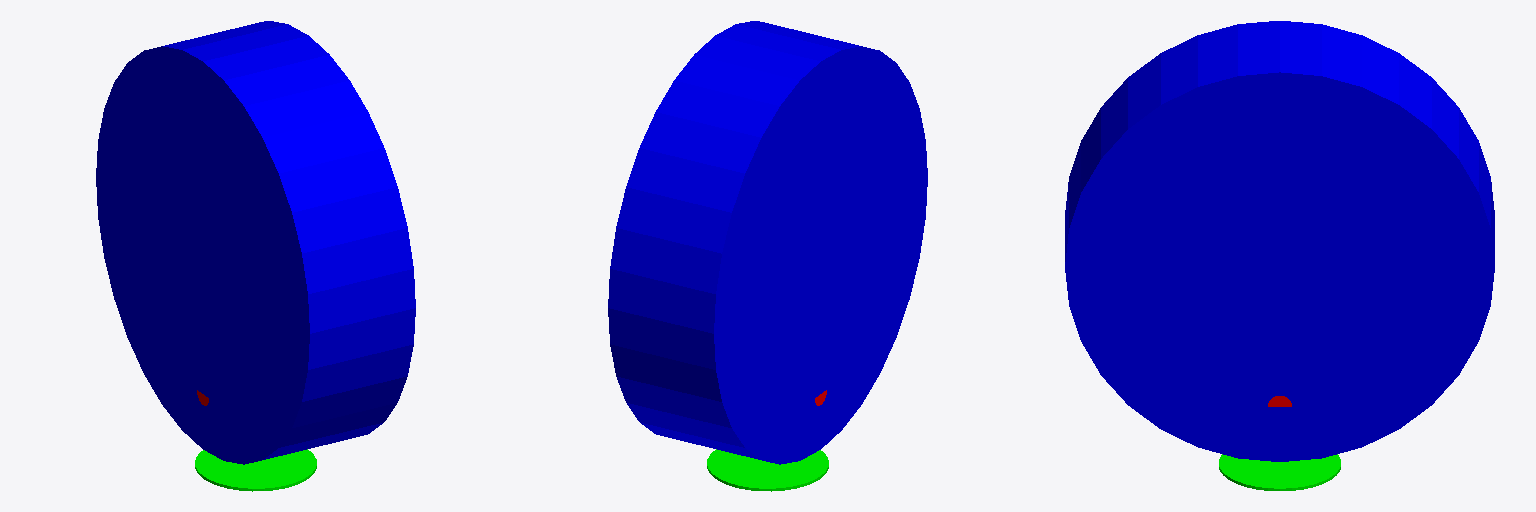
URDF robot description (pan_tilt):
<?xml version="1.0"?>
<robot name="pan_tilt">

  <link name="base_link">

    <visual>
      <geometry>
	<cylinder length="0.01" radius="0.2"/>
      </geometry>
      <origin rpy="0 0 0" xyz="0 0 0"/>
      <material name="yellow">
        <color rgba="0 1 0 1"/>
      </material>
    </visual>

    <collision>
      <geometry>
	<cylinder length="0.03" radius="0.2"/>
      </geometry>
      <origin rpy="0 0 0" xyz="0 0 0"/>
    </collision>
    <inertial>
	<mass value="1"/>
	<inertia ixx="1.0" ixy="0.0" ixz="0.0" iyy="1.0" iyz="0.0" izz="1.0"/>
    </inertial>
  </link>

  <joint name="pan_joint" type="revolute">
    <parent link="base_link"/>
    <child link="pan_link"/>
    <origin xyz="0 0 0.1"/>
    <axis xyz="0 0 1" />
    <limit effort="300" velocity="0.1" lower="-3.14" upper="3.14"/>
    <dynamics damping="50" friction="1"/>
  </joint>

  <link name="pan_link">
    <visual>
      <geometry>
	<cylinder length="0.4" radius="0.7"/>
      </geometry>
      <origin rpy="0 1.570796327 0" xyz="0 0 0.7"/>
      <material name="red">
        <color rgba="0 0 1 1"/>
      </material>
    </visual>
    <collision>
      <geometry>
	<cylinder length="0.4" radius="0.06"/>
      </geometry>
      <origin rpy="0 0 0" xyz="0 0 0.09"/>
    </collision>
    <inertial>
	<mass value="1"/>
	<inertia ixx="1.0" ixy="0.0" ixz="0.0" iyy="1.0" iyz="0.0" izz="1.0"/>
    </inertial>
  </link>

  <joint name="tilt_joint" type="revolute">
    <parent link="pan_link"/>
    <child link="tilt_link"/>
    <origin xyz="0 0 0.2"/>
    <axis xyz="0 1 0" />
    <limit effort="300" velocity="0.1" lower="-4.64" upper="-1.5"/>
    <dynamics damping="50" friction="1"/>
  </joint>

  <link name="tilt_link">
    <visual>
      <geometry>
	<cylinder length="0.4" radius="0.04"/>
      </geometry>
      <origin rpy="0 1.5 0" xyz="0 0 0"/>
      <material name="green">
        <color rgba="1 0 0 1"/>
      </material>
    </visual>
    <collision>
      <geometry>
	<cylinder length="0.4" radius="0.06"/>
      </geometry>
      <origin rpy="0 1.5 0" xyz="0 0 0"/>
    </collision>
    <inertial>
	<mass value="1"/>
	<inertia ixx="1.0" ixy="0.0" ixz="0.0" iyy="1.0" iyz="0.0" izz="1.0"/>
    </inertial>

  </link>


</robot>

--- Render facts (derived) ---
3 views of the same robot in one strip: view 1: azimuth 30°, elevation 25°; view 2: azimuth 150°, elevation 25°; view 3: azimuth 270°, elevation 25° (orthographic).
Model pan_tilt with 3 links and 2 joints (2 revolute), rooted at base_link, posed joints at zero except 1 at the middle of their limits (tilt_joint = -3.07).
Visible links, largest first — view 1: pan_link, base_link; view 2: pan_link, base_link; view 3: pan_link, base_link.
Boxes of the visible links, x1,y1,x2,y2 form: pan_link: (96,21,415,464); base_link: (195,449,316,491); pan_link: (608,21,927,464); base_link: (707,449,828,491); pan_link: (1065,21,1494,461); base_link: (1219,454,1340,490).
Bounding box of the posed robot: 0.4001 × 1.4 × 1.5 m (x, y, z).
Geometry: primitives only (box / cylinder / sphere), no mesh files.